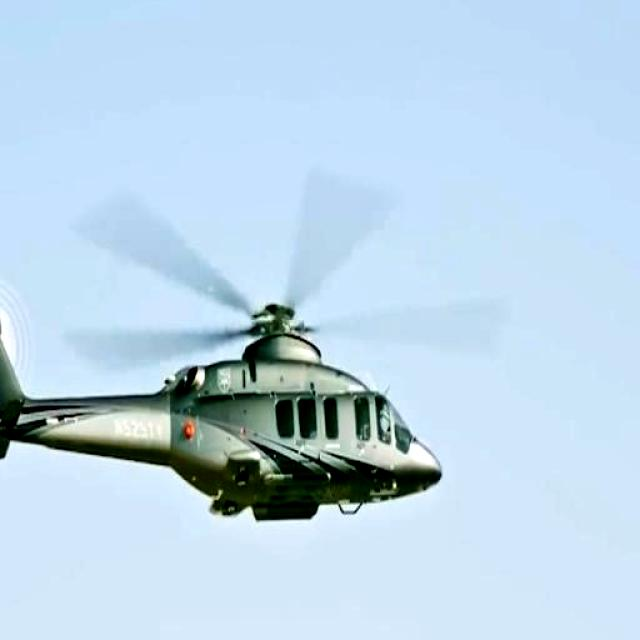drone: (0, 190, 451, 575)
